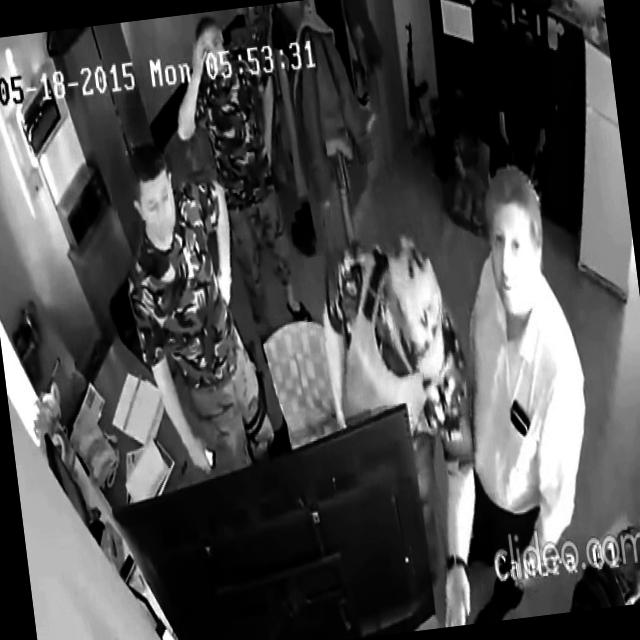gun: (396, 19, 438, 155)
person: (414, 157, 615, 624), (309, 224, 496, 638), (108, 129, 279, 489), (163, 7, 316, 346)
